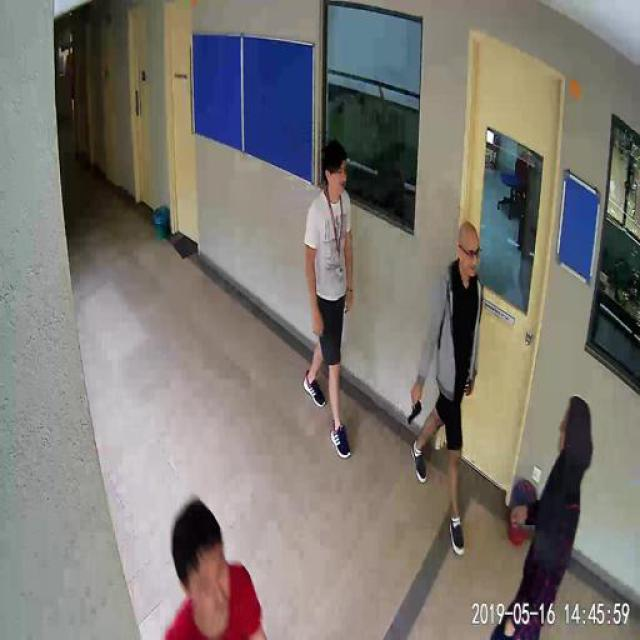Gun: (406, 392, 420, 426)
